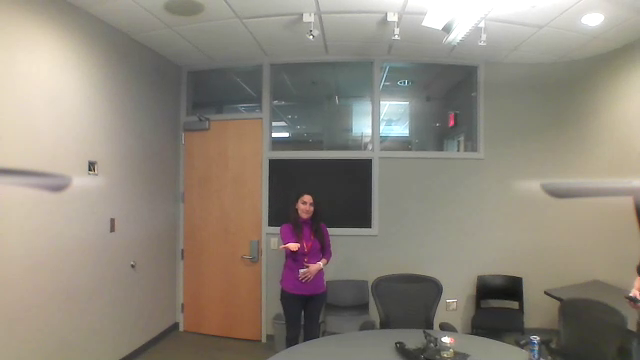land: (272, 238, 308, 259)
